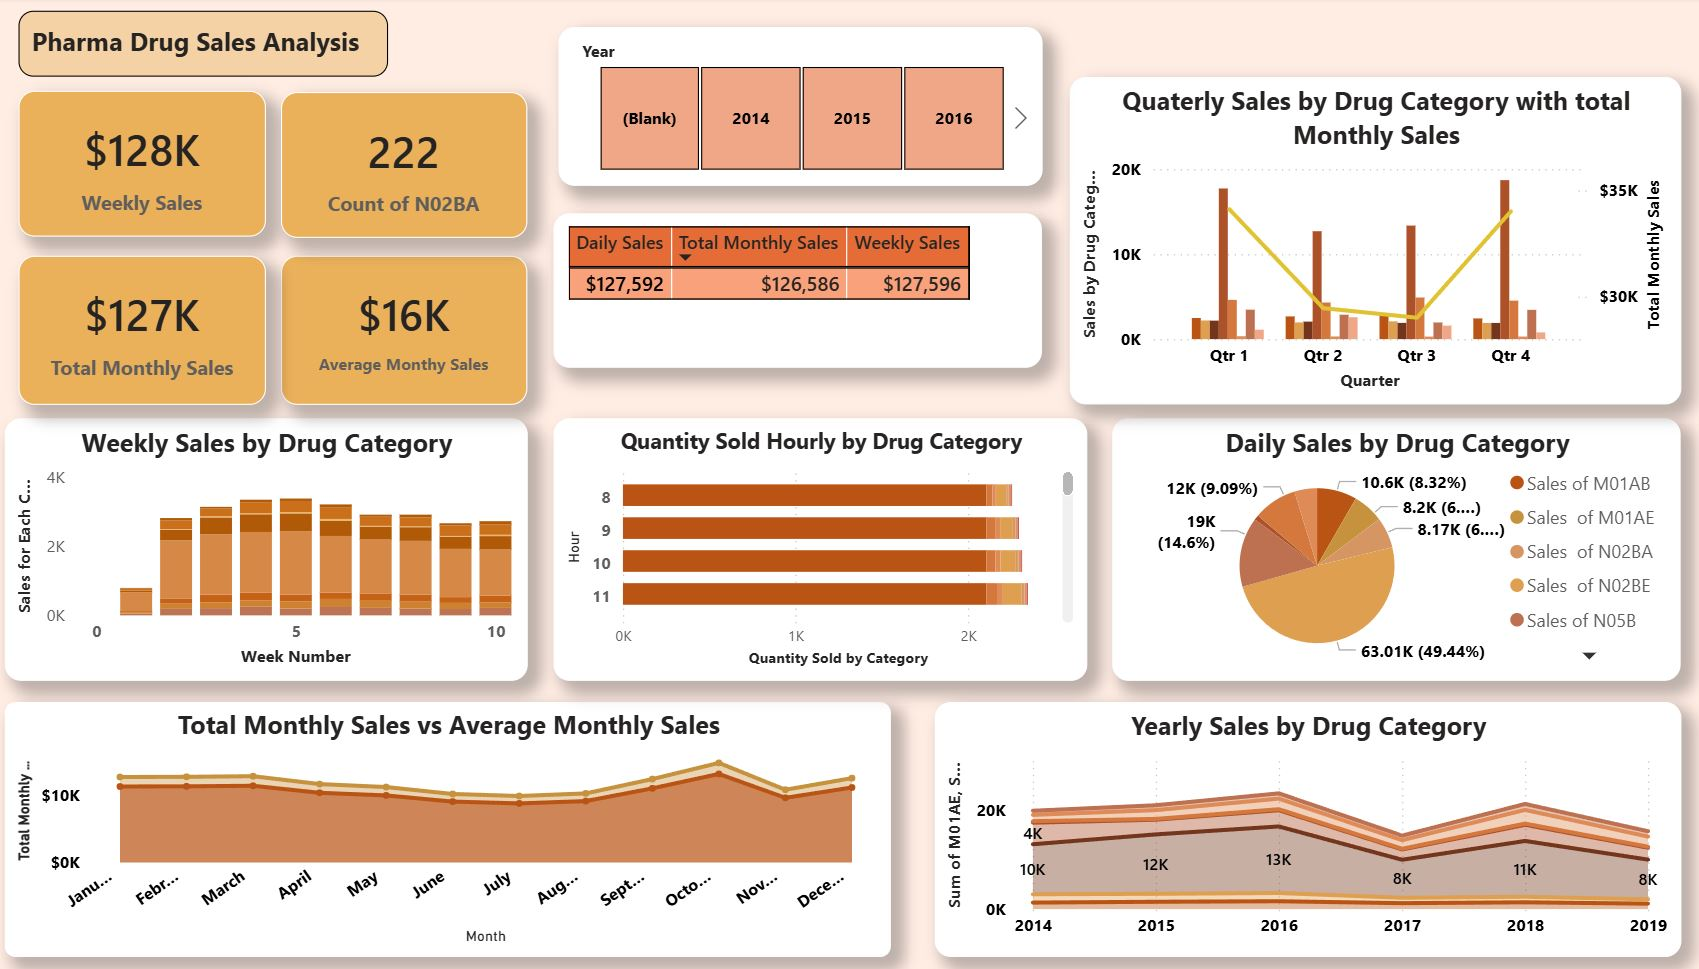

Layout of this report page (visuals, bound fields, positions):
{"tool":"powerbi","page":{"name":"Page 1","canvas":[1280,720],"ordinal":0},"visuals":[{"type":"textbox","box":[31.5,10.2,273.9,49],"z":0},{"type":"columnChart","title":"Weekly Sales by Drug Category","fields":{"Category":["Weekly Sales.Week Number"],"Y":["Sum(Weekly Sales.M01AB)","Sum(Weekly Sales.M01AE)","Sum(Weekly Sales.N02BA)","Sum(Weekly Sales.N02BE)","Sum(Weekly Sales.N05B)","Sum(Weekly Sales.N05C)","Sum(Weekly Sales.R03)","Sum(Weekly Sales.R06)"]},"box":[21.3,311.9,386.8,194.3],"z":1000},{"type":"stackedAreaChart","title":"Total Monthly Sales vs Average Monthly Sales","fields":{"Category":["Monthly Sales.Date.Variation.Date Hierarchy.Month"],"Y":["Monthly Sales.Total Monthly Sales","Monthly Sales.Average Monthy Sales"]},"box":[21.3,521.9,656.1,188.8],"z":2000},{"type":"barChart","title":"Quantity Sold Hourly by Drug Category","fields":{"Category":["Hourly Sales.Hour"],"Y":["CountNonNull(Hourly Sales.M01AB)","Count(Hourly Sales.M01AE)","Count(Hourly Sales.N02BA)","Count(Hourly Sales.N02BE)","Count(Hourly Sales.N05B)","Count(Hourly Sales.N05C)","Count(Hourly Sales.R03)","Count(Hourly Sales.R06)"]},"box":[427.5,311.9,395.1,194.3],"z":3000},{"type":"pieChart","title":"Daily Sales by Drug Category","fields":{"Y":["Sum(Hourly Sales.M01AB)","Sum(Hourly Sales.M01AE)","Sum(Hourly Sales.N02BA)","Sum(Hourly Sales.N02BE)","Sum(Hourly Sales.N05B)","Sum(Hourly Sales.N05C)","Sum(Hourly Sales.R03)","Sum(Hourly Sales.R06)"]},"box":[841.2,311.9,421.1,194.3],"z":4000},{"type":"stackedAreaChart","title":"Yearly Sales by Drug Category","fields":{"Category":["Monthly Sales.Date.Variation.Date Hierarchy.Year"],"Y":["Sum(Monthly Sales.M01AE)","Sum(Monthly Sales.N02BA)","Sum(Monthly Sales.N02BE)","Sum(Monthly Sales.N05B)","Sum(Monthly Sales.N05C)","Sum(Monthly Sales.R03)","Sum(Monthly Sales.R06)"]},"box":[709.8,521.9,552.5,188.8],"z":5000},{"type":"lineClusteredColumnComboChart","title":"Quaterly Sales by Drug Category with total Monthly Sales","fields":{"Category":["Monthly Sales.Date.Variation.Date Hierarchy.Quarter"],"Y":["Sum(Monthly Sales.M01AB)","Sum(Monthly Sales.M01AE)","Sum(Monthly Sales.N02BA)","Sum(Monthly Sales.N02BE)","Sum(Monthly Sales.N05B)","Sum(Monthly Sales.N05C)","Sum(Monthly Sales.R03)","Sum(Monthly Sales.R06)"],"Y2":["Monthly Sales.Total Monthly Sales"]},"box":[809.7,59.2,452.5,242.5],"z":6000},{"type":"cardVisual","fields":{"Data":["Weekly Sales.Weekly Sales"]},"box":[31.5,69.4,183.2,108.3],"z":7000},{"type":"cardVisual","fields":{"Data":["Monthly Sales.Average Monthy Sales"]},"box":[225.8,191.6,182.3,110.1],"z":8000},{"type":"cardVisual","fields":{"Data":["Count(Weekly Sales.N02BA)"]},"box":[225.8,70.3,182.3,108.3],"z":9000},{"type":"cardVisual","fields":{"Data":["Monthly Sales.Total Monthly Sales"]},"box":[31.5,191.6,183.2,110.1],"z":10000},{"type":"tableEx","fields":{"Values":["Daily Sales.Daily Sales","Monthly Sales.Total Monthly Sales","Weekly Sales.Weekly Sales"]},"box":[427.5,160.1,361.8,114.7],"z":11000},{"type":"slicer","fields":{"Values":["Monthly Sales.Date.Variation.Date Hierarchy.Year"]},"box":[431.2,22.2,358.1,117.5],"z":11001}]}

Visuals, with their boxes in screenshot pixels (x1, y1, x2, y2), scaled from the page's 1280x720 canvas onto the 1699x969 screenshot:
textbox: [42,14,405,80]
"Weekly Sales by Drug Category" columnChart: [28,420,542,681]
"Total Monthly Sales vs Average Monthly Sales" stackedAreaChart: [28,702,899,956]
"Quantity Sold Hourly by Drug Category" barChart: [567,420,1092,681]
"Daily Sales by Drug Category" pieChart: [1117,420,1676,681]
"Yearly Sales by Drug Category" stackedAreaChart: [942,702,1676,956]
"Quaterly Sales by Drug Category with total Monthly Sales" lineClusteredColumnComboChart: [1075,80,1675,406]
cardVisual - Weekly Sales.Weekly Sales: [42,93,285,239]
cardVisual - Monthly Sales.Average Monthy Sales: [300,258,542,406]
cardVisual - Count(Weekly Sales.N02BA): [300,95,542,240]
cardVisual - Monthly Sales.Total Monthly Sales: [42,258,285,406]
tableEx - Daily Sales.Daily Sales x Monthly Sales.Total Monthly Sales: [567,215,1048,370]
slicer - Monthly Sales.Date.Variation.Date Hierarchy.Year: [572,30,1048,188]
